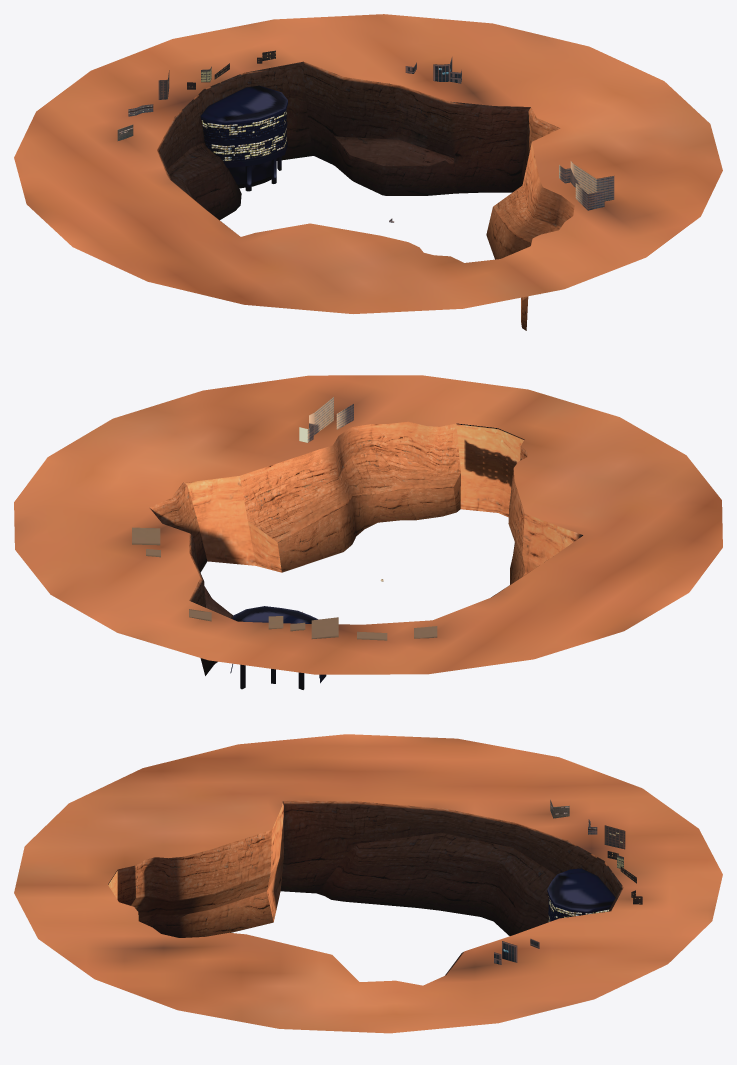
Rendered from CliffVista_mesh.glb.
The picture shows the model from 3 angles, top to bottom: view 1: azimuth 30°, elevation 25°; view 2: azimuth 150°, elevation 25°; view 3: azimuth 270°, elevation 25°; orthographic projection.
Parts seen in each view (by area): view 1: CliffVista_mesh; view 2: CliffVista_mesh; view 3: CliffVista_mesh.
Part boxes in pixels (left/top/right/bottom): CliffVista_mesh: left=14, top=14, right=722, bottom=330; CliffVista_mesh: left=14, top=375, right=722, bottom=689; CliffVista_mesh: left=14, top=734, right=722, bottom=1033.
Bounding box in the file's own units: 1060 × 185 × 1060.
Materials: 1 (1 with a texture image).
